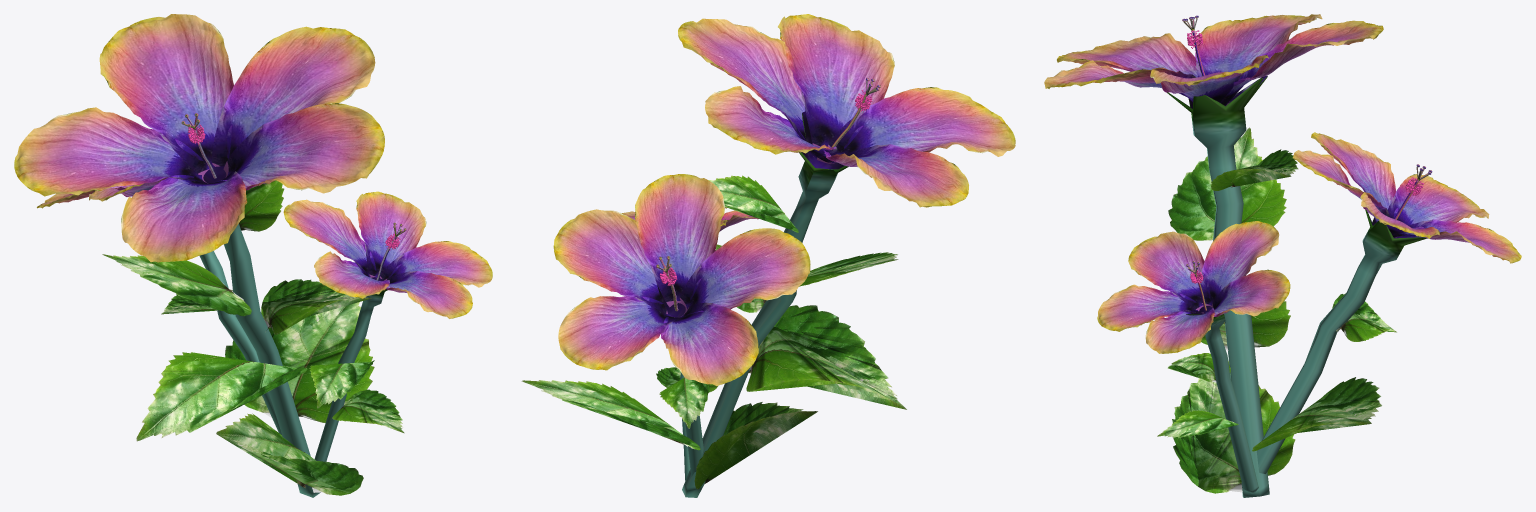
Rendered from HibiscusModelFinal2.fbx.
3 renders of one model, left to right at view 1: azimuth 30°, elevation 25°; view 2: azimuth 150°, elevation 25°; view 3: azimuth 270°, elevation 25°, orthographic. The views are drawn at different scales.
Visible parts, largest first — view 1: Circle.001, Circle, hibiscus leaf.007, hibiscus leaf.003, Cylinder.001a.001, hibiscus leaf.008, hibiscus leaf.001, hibiscus leaf.002, Cylinder.001a, hibiscus leaf.005, hibiscus leaf.006, hibiscus leaf.009 (+3 smaller); view 2: Circle.001, Circle.002, hibiscus leaf.007, Cylinder.001a.001, hibiscus leaf.008, hibiscus leaf.003, hibiscus leaf.009, hibiscus leaf.004, hibiscus leaf.001, Cylinder.001a.002; view 3: Circle, Circle.001, Circle.002, Cylinder.001a.001, Cylinder.001a.002, hibiscus leaf.008, hibiscus leaf.001, hibiscus leaf.003, Cylinder.001a, hibiscus leaf.009, hibiscus leaf.007, hibiscus leaf.005 (+2 smaller).
Part boxes in pixels (x1,y1,x2,y2): Circle.001: (14, 14, 384, 262); Circle: (283, 191, 492, 318); hibiscus leaf.007: (136, 352, 307, 441); hibiscus leaf.003: (225, 302, 374, 422); Cylinder.001a.001: (203, 165, 320, 497); hibiscus leaf.008: (216, 413, 363, 495); hibiscus leaf.001: (102, 254, 251, 316); hibiscus leaf.002: (261, 279, 371, 334); Cylinder.001a: (314, 277, 387, 461); hibiscus leaf.005: (332, 389, 404, 433); hibiscus leaf.006: (309, 360, 374, 408); hibiscus leaf.009: (239, 180, 284, 231); Circle.001: (678, 14, 1015, 207); Circle.002: (553, 174, 810, 385); hibiscus leaf.007: (746, 305, 906, 409); Cylinder.001a.001: (682, 111, 848, 497); hibiscus leaf.008: (694, 402, 817, 489); hibiscus leaf.003: (521, 380, 700, 450); hibiscus leaf.009: (708, 175, 798, 232); hibiscus leaf.004: (659, 377, 710, 428); hibiscus leaf.001: (799, 252, 898, 286); Cylinder.001a.002: (657, 284, 703, 476); Circle: (1097, 221, 1290, 353); Circle.001: (1044, 14, 1383, 105); Circle.002: (1292, 132, 1521, 263); Cylinder.001a.001: (1167, 76, 1269, 497); Cylinder.001a.002: (1256, 210, 1427, 473); hibiscus leaf.008: (1172, 361, 1295, 493); hibiscus leaf.001: (1168, 127, 1286, 240); hibiscus leaf.003: (1252, 377, 1381, 451); Cylinder.001a: (1186, 306, 1258, 493); hibiscus leaf.009: (1211, 149, 1298, 190); hibiscus leaf.007: (1201, 301, 1290, 350); hibiscus leaf.005: (1157, 410, 1238, 437).
Bounding box in the file's own units: 1154 × 1216 × 1203.
24 materials, 21 textured.
